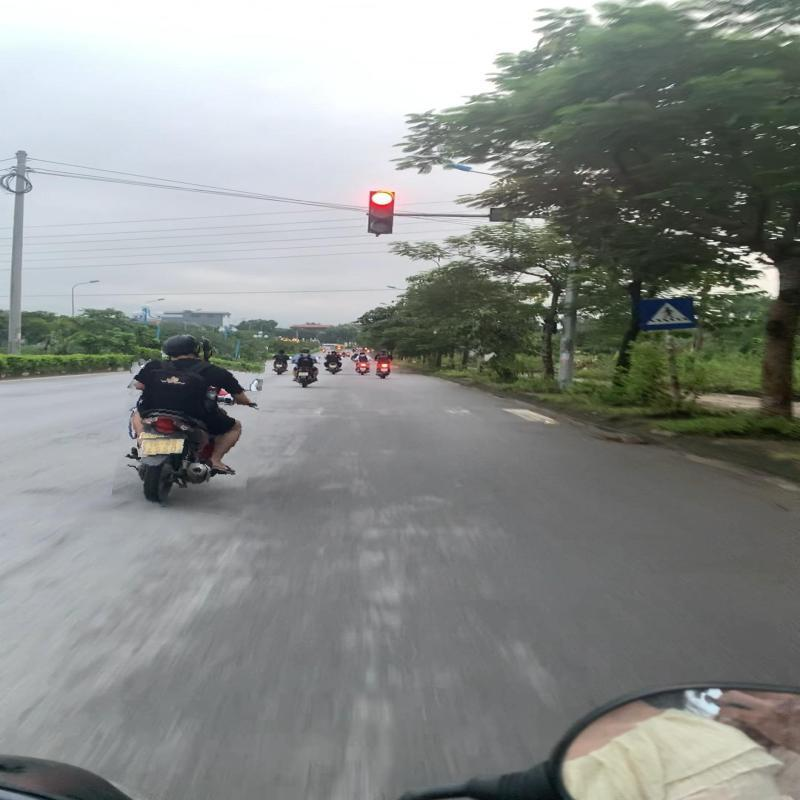helmet: (161, 333, 204, 361)
licenseplate: (138, 436, 188, 457)
motorcyclist: (117, 328, 262, 514)
